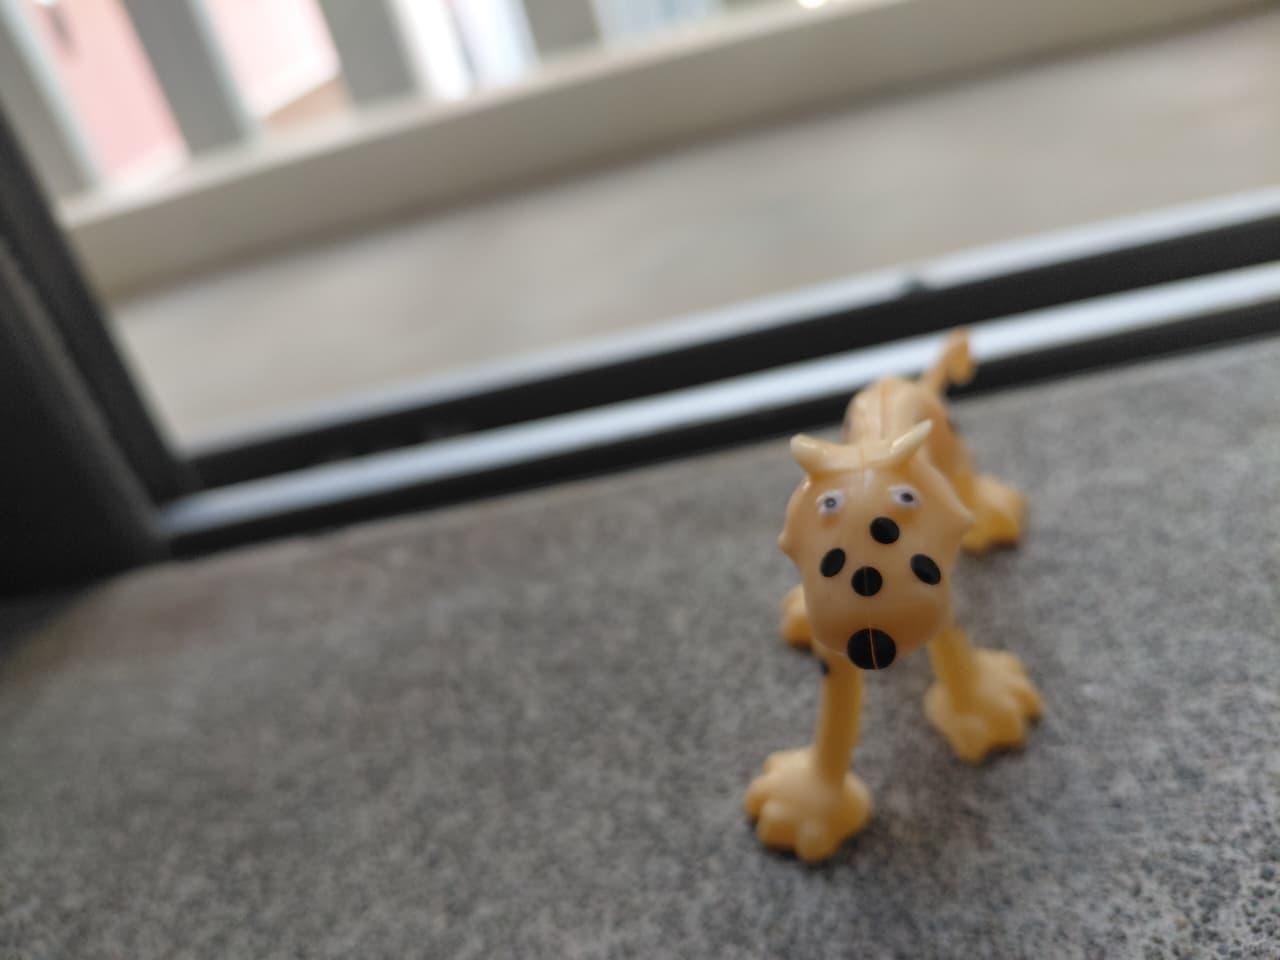cheetah: (688, 333, 1120, 860)
